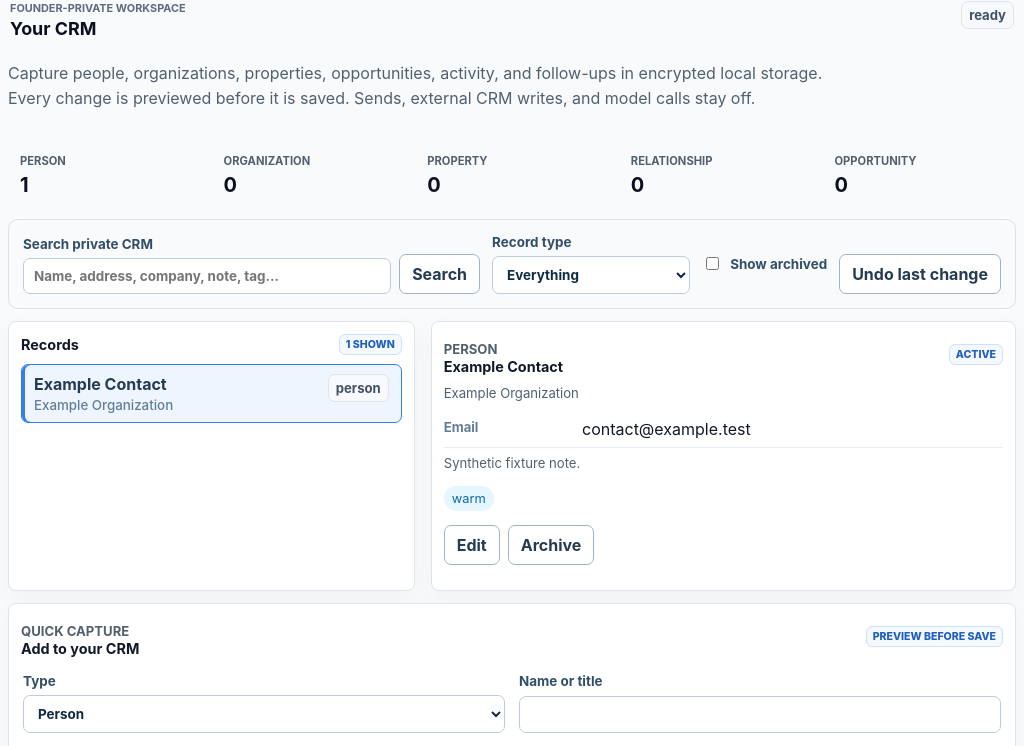
Scenario: CrmAdoptionWorkspace › clears an edited draft when refresh observes a newer record version
Click the button "Edit": (472,546) [444,526,500,566]
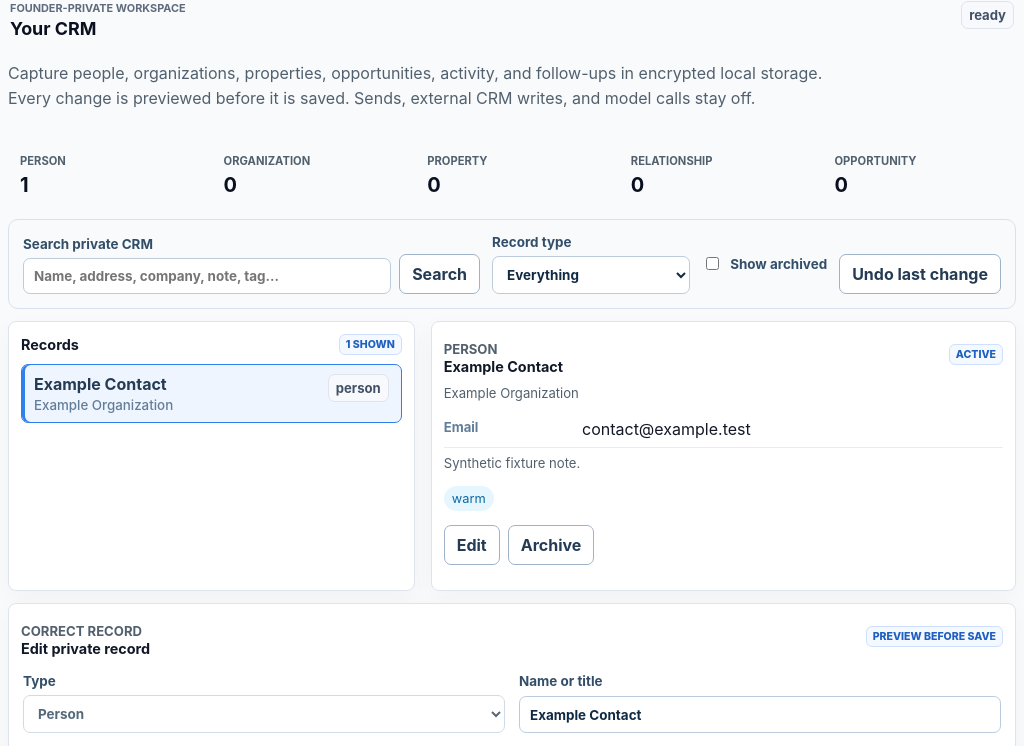
Replace the text in the field labelled "Name or title" with "Obsolete local draft": (760,715) [519,696,1001,733]
(page scrolled)
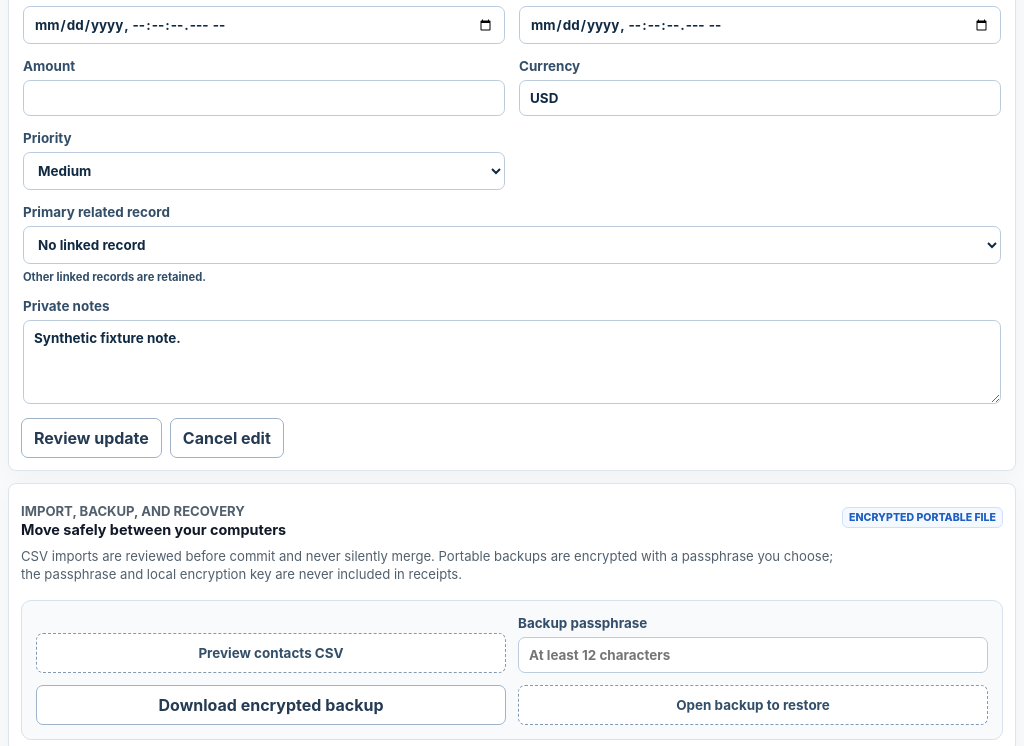
Click the button "Review update": (91,438) [21,418,162,458]
(page scrolled)
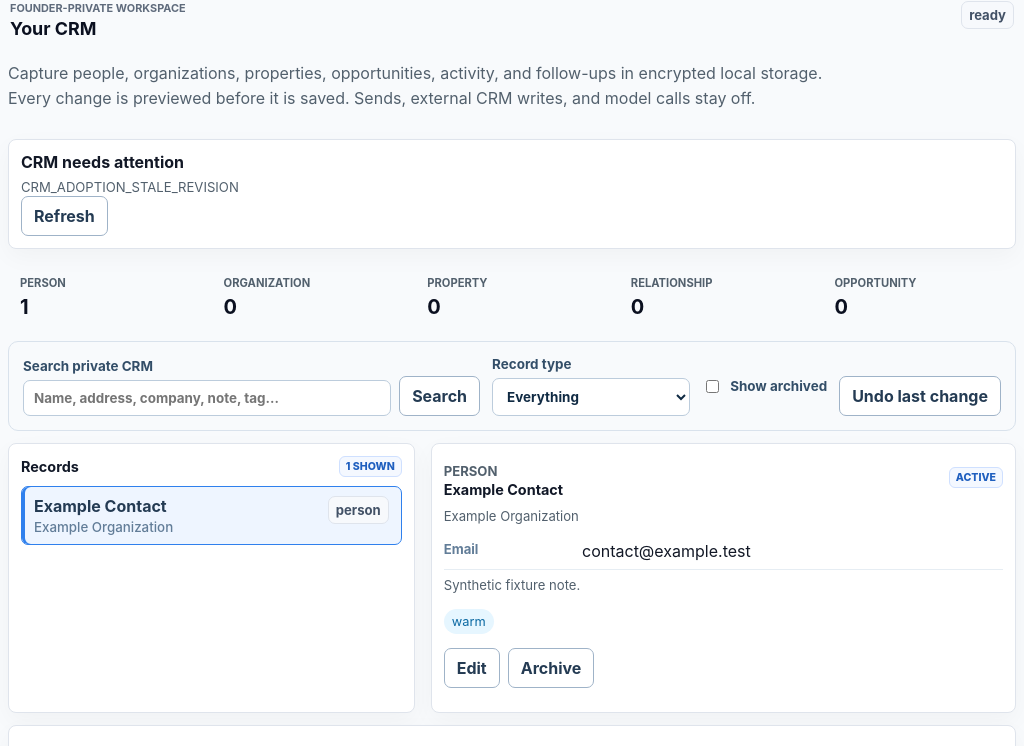
Now the text "CRM_ADOPTION_STALE_REVISION" is shown, box [21,179,239,195]
Click the button "Refresh": (64,216) [21,196,108,236]
(page scrolled)
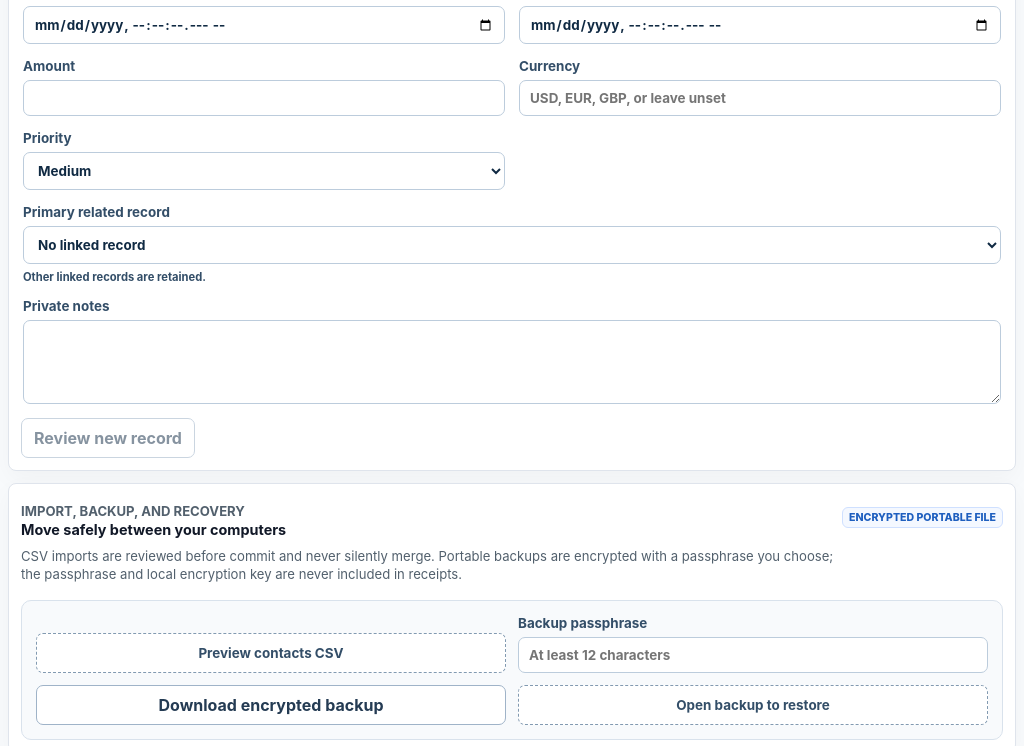
Now the button "Review new record" is shown, box [21,418,195,458]
